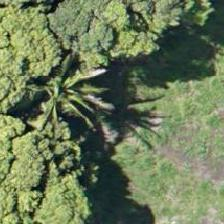coconut_tree: (21, 49, 111, 139)
